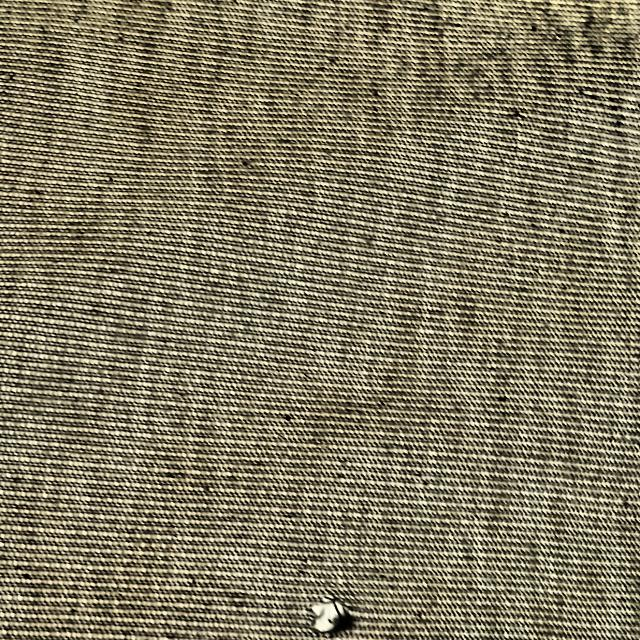Hole: (297, 590, 360, 640)
